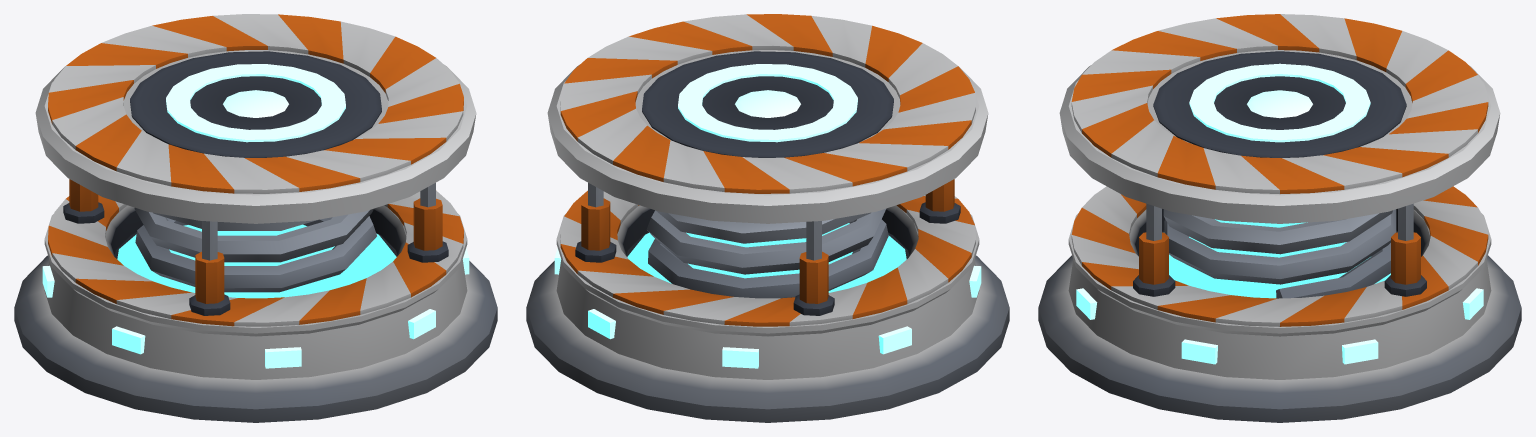
The model's file is bounce_space.glb.
3 views of the same model, side by side, from view 1: azimuth 30°, elevation 25°; view 2: azimuth 150°, elevation 25°; view 3: azimuth 270°, elevation 25° (orthographic).
Parts seen in each view (by area): view 1: top, bounce_space; view 2: top, bounce_space; view 3: top, bounce_space.
Part boxes in pixels (box(x1,y1,x2,y2)): top: box(35, 14, 476, 292); bounce_space: box(14, 179, 497, 422); top: box(547, 14, 988, 298); bounce_space: box(526, 179, 1009, 422); top: box(1059, 14, 1500, 298); bounce_space: box(1038, 186, 1521, 422).
Bounding box in the file's own units: 1.6 × 0.8 × 1.6.
